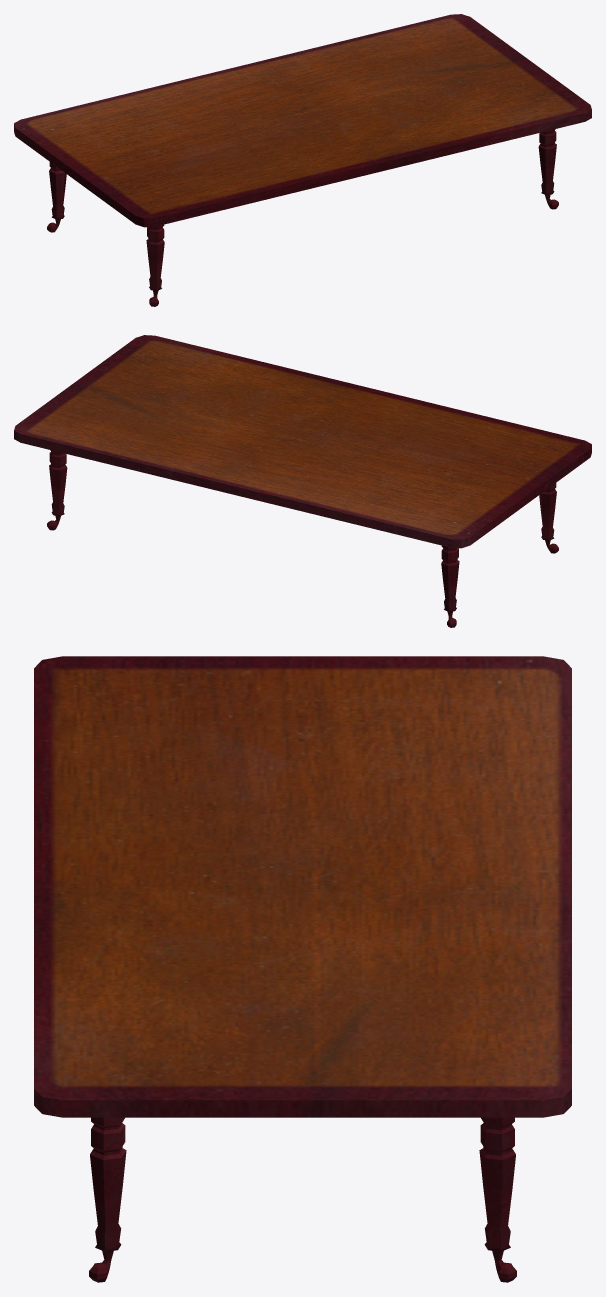
The model's file is table.fbx.
The picture shows the model from 3 angles, top to bottom: view 1: azimuth 30°, elevation 25°; view 2: azimuth 150°, elevation 25°; view 3: azimuth 270°, elevation 25°; orthographic projection. The views are drawn at different scales.
Parts seen in each view (by area): view 1: tableMesh; view 2: tableMesh; view 3: tableMesh.
Part boxes in pixels (x1,y1,x2,y2): tableMesh: (14, 14, 591, 306); tableMesh: (14, 335, 591, 627); tableMesh: (34, 656, 571, 1282).
Bounding box in the file's own units: 275 × 59.64 × 141.
